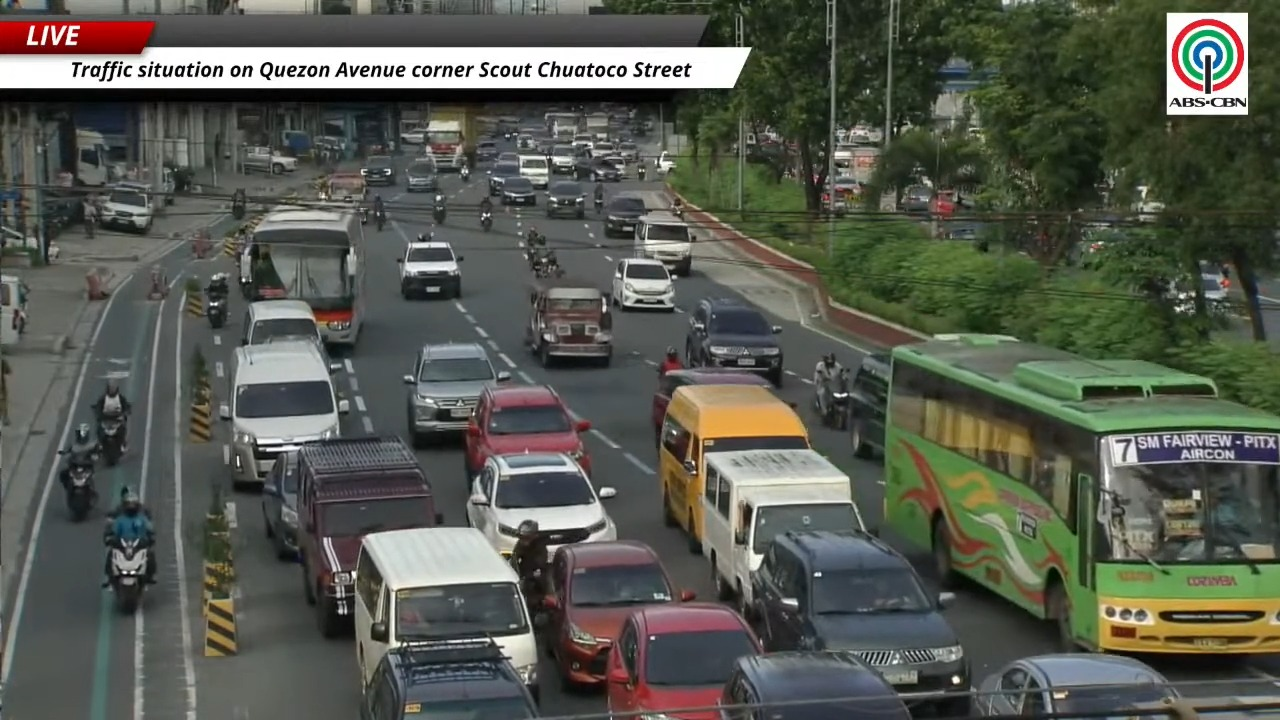bus: (884, 334, 1279, 653), (246, 206, 365, 346)
car: (746, 529, 969, 716), (544, 540, 694, 687), (606, 603, 761, 716), (466, 452, 616, 555), (360, 638, 538, 719), (716, 651, 911, 719), (464, 385, 590, 487), (973, 654, 1179, 716), (403, 342, 510, 445), (651, 367, 771, 444), (685, 298, 783, 386), (525, 277, 612, 367), (850, 353, 890, 457), (262, 451, 297, 559), (397, 241, 463, 298), (611, 258, 675, 311), (1170, 272, 1228, 314), (99, 188, 153, 233), (114, 169, 174, 205), (603, 194, 647, 237), (241, 146, 297, 174), (546, 181, 585, 218), (574, 156, 621, 181), (487, 160, 519, 196), (406, 156, 438, 192), (928, 190, 967, 219), (500, 176, 536, 205), (360, 156, 395, 185), (548, 144, 579, 174), (900, 185, 933, 213), (604, 153, 627, 178), (654, 150, 675, 176), (399, 127, 428, 145), (477, 140, 498, 161), (618, 141, 639, 162), (573, 133, 594, 150), (536, 139, 554, 158), (593, 141, 615, 156), (496, 151, 518, 165), (517, 133, 534, 149)
motorcycle: (109, 539, 148, 613), (64, 462, 97, 521), (820, 368, 849, 430), (98, 415, 124, 466), (206, 294, 227, 328), (432, 195, 445, 224), (432, 206, 445, 224), (375, 211, 385, 231), (481, 211, 491, 231), (359, 207, 369, 224), (594, 197, 603, 214), (671, 204, 682, 217), (637, 163, 645, 180), (460, 166, 469, 181)
truck: (297, 436, 443, 636), (701, 449, 865, 608), (48, 121, 114, 187), (423, 105, 477, 170), (75, 128, 110, 186), (848, 146, 880, 183), (585, 113, 611, 141)
